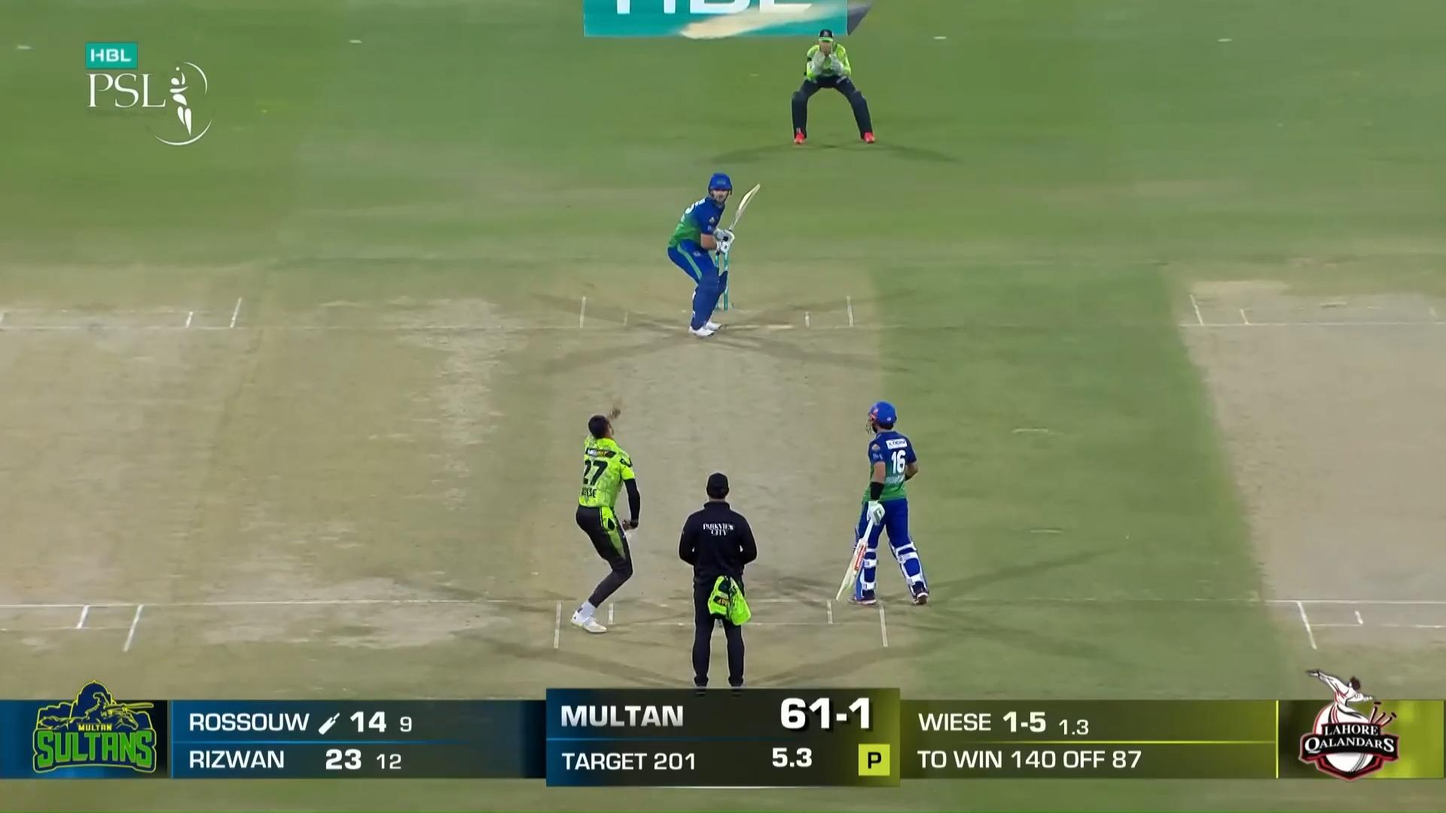batsman: (668, 172, 761, 338)
